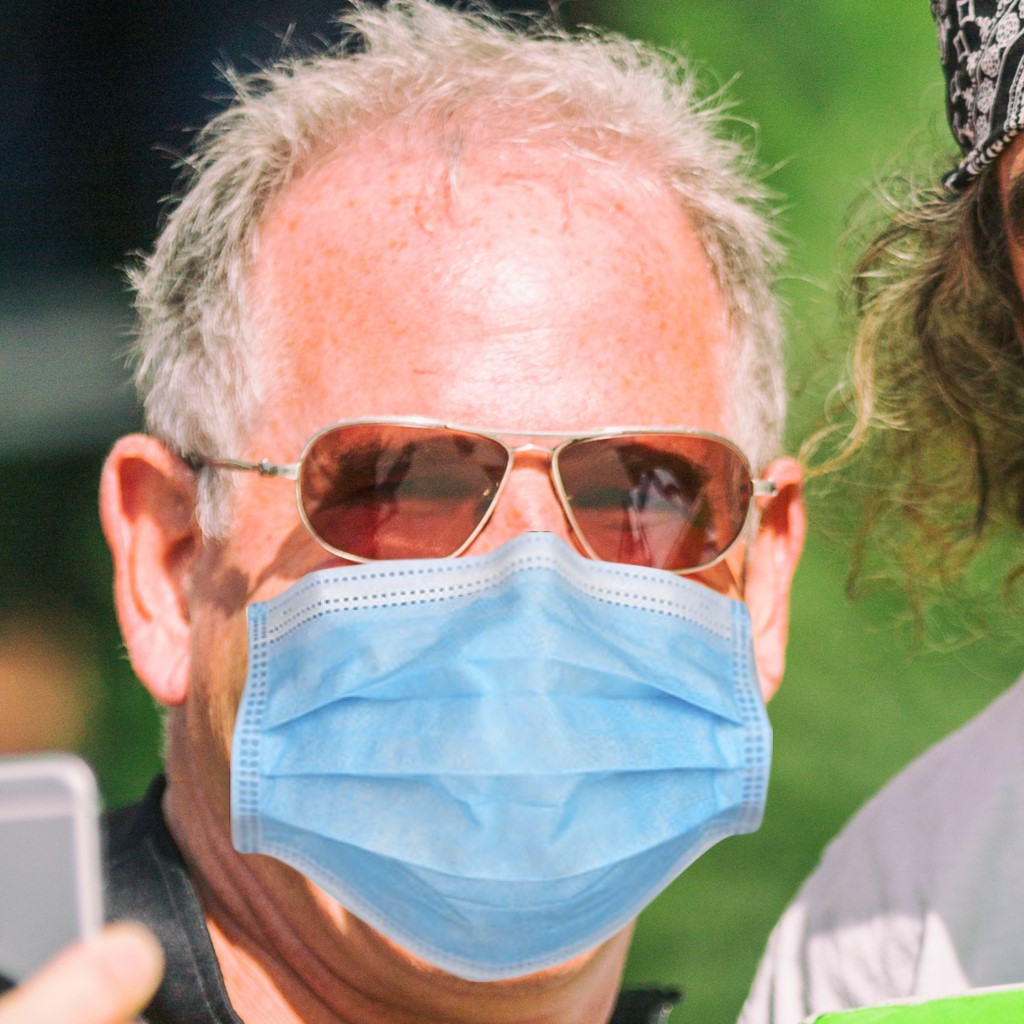con_mascara: (194, 106, 784, 954)
